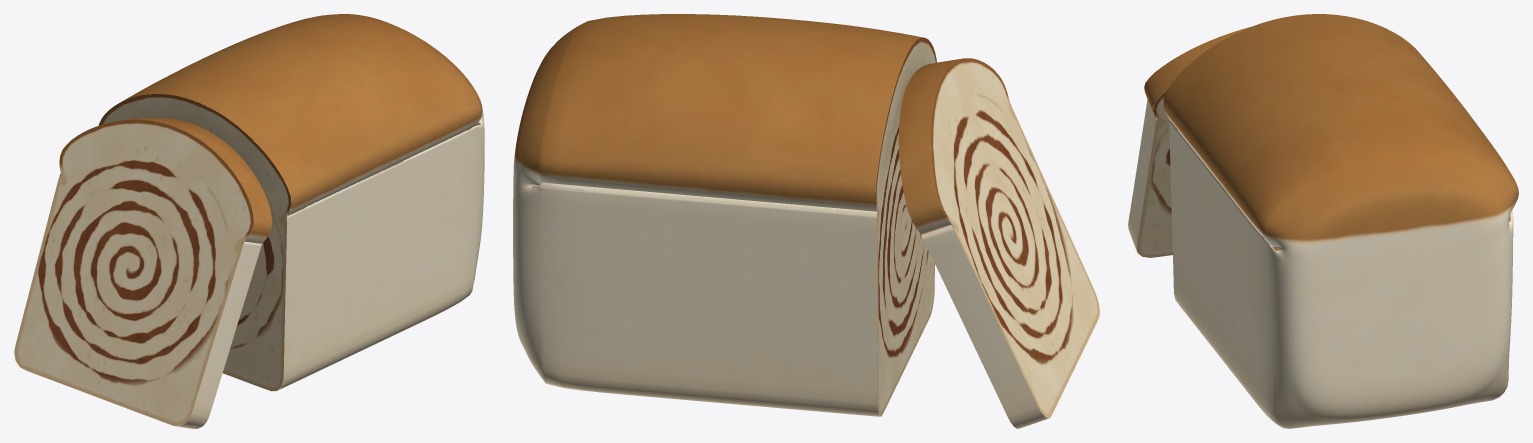
The model's file is loaf--cinnamon-swirl.glb.
3 renders of one model, left to right at view 1: azimuth 30°, elevation 25°; view 2: azimuth 150°, elevation 25°; view 3: azimuth 270°, elevation 25°, orthographic. The views are drawn at different scales.
Visible parts, largest first — view 1: loaf_cinnamon-swirl; view 2: loaf_cinnamon-swirl; view 3: loaf_cinnamon-swirl.
Boxes of the visible parts, x1,y1,x2,y2 form: loaf_cinnamon-swirl: (14, 14, 484, 428); loaf_cinnamon-swirl: (513, 14, 1099, 428); loaf_cinnamon-swirl: (1128, 14, 1518, 428).
Size of the model in its own units: 1.23 by 0.7201 by 0.8909.
1 material, 1 textured.
